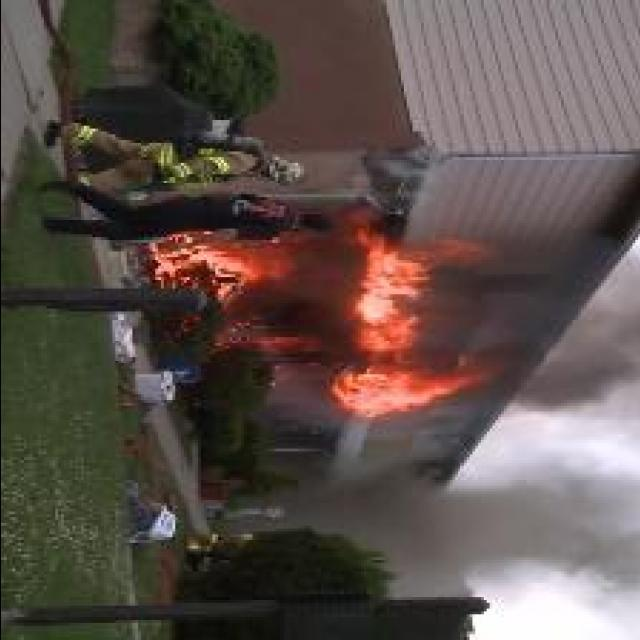Fire: (326, 218, 498, 416), (147, 238, 296, 304)
